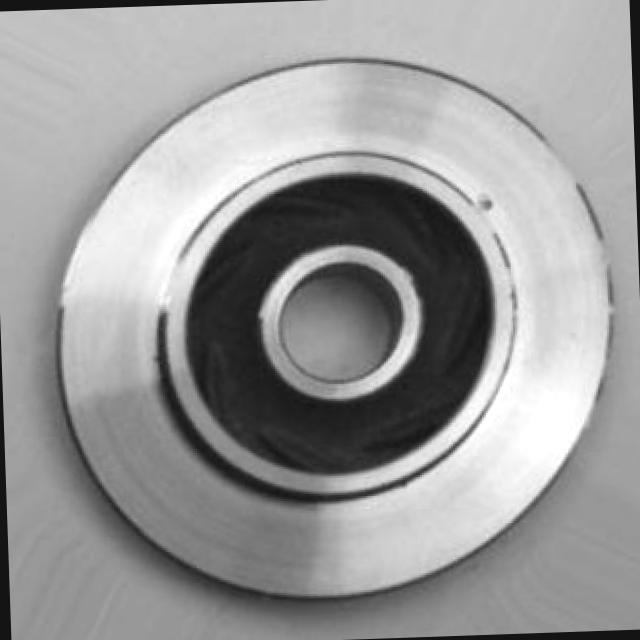Defect: (474, 188, 504, 225)
